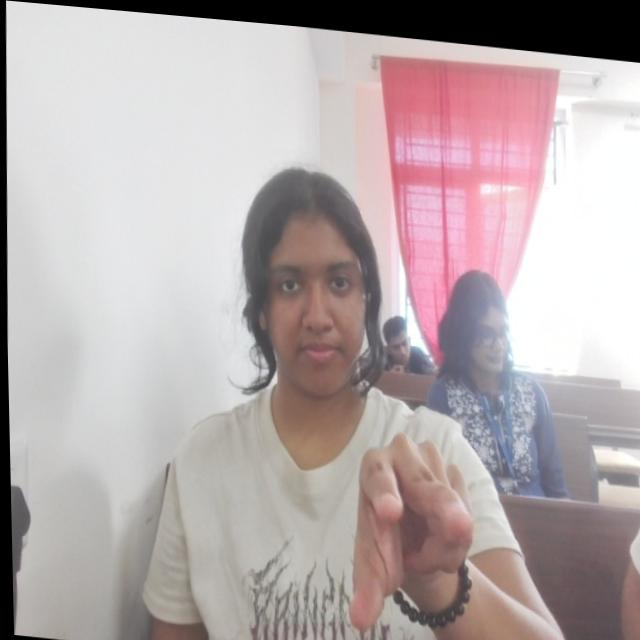no: (340, 416, 477, 634)
